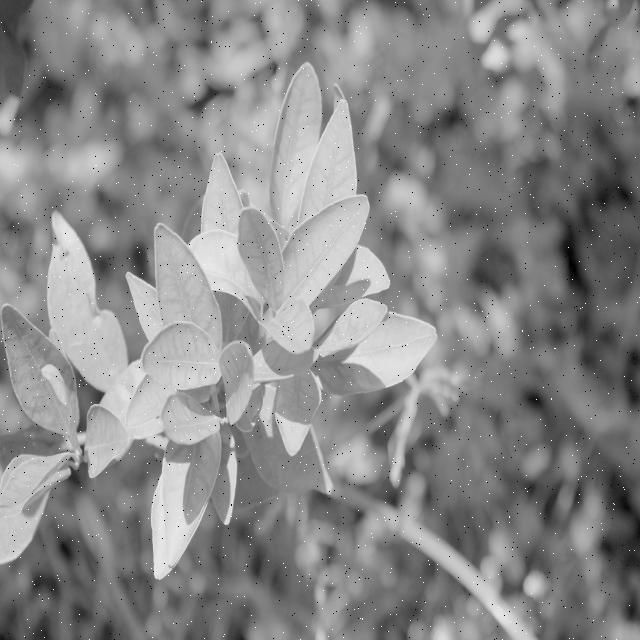greening: (280, 191, 371, 303), (322, 312, 437, 394), (271, 64, 326, 212), (8, 306, 72, 424), (163, 408, 208, 547), (161, 237, 219, 340), (142, 338, 224, 393), (87, 408, 130, 472), (224, 345, 257, 426)
